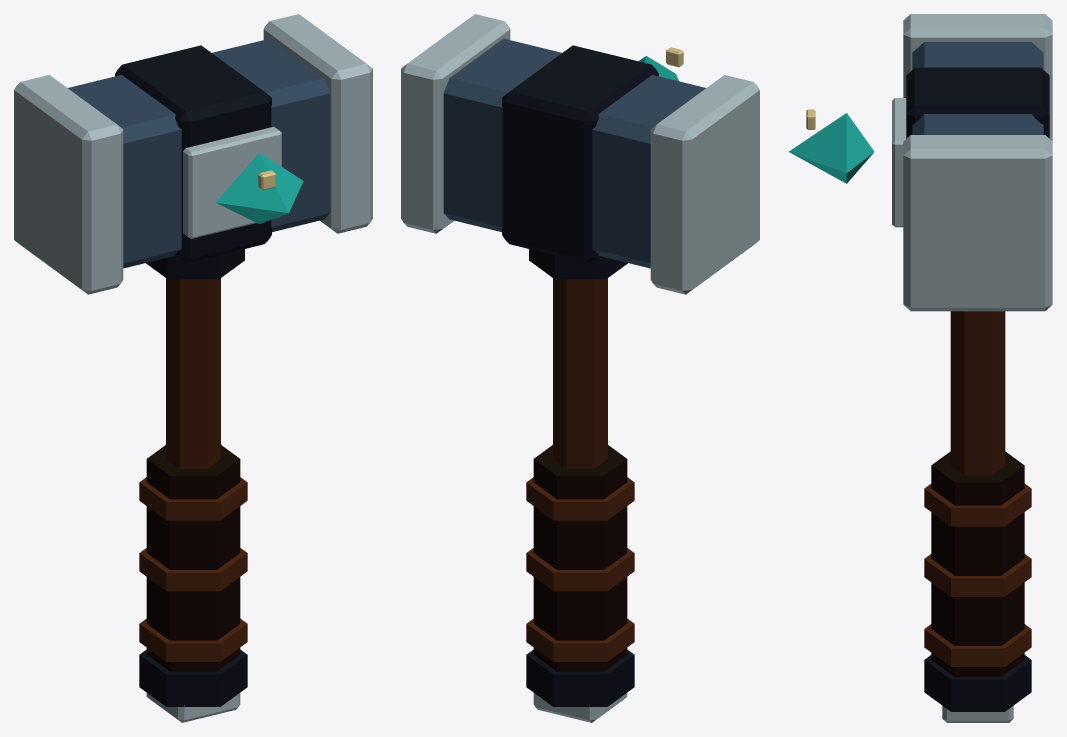
Rendered from hammer-iron.glb.
3 views of the same model, side by side, from view 1: azimuth 30°, elevation 25°; view 2: azimuth 150°, elevation 25°; view 3: azimuth 270°, elevation 25° (orthographic).
Size of the model in its own units: 0.56 by 1.16 by 0.4428.
